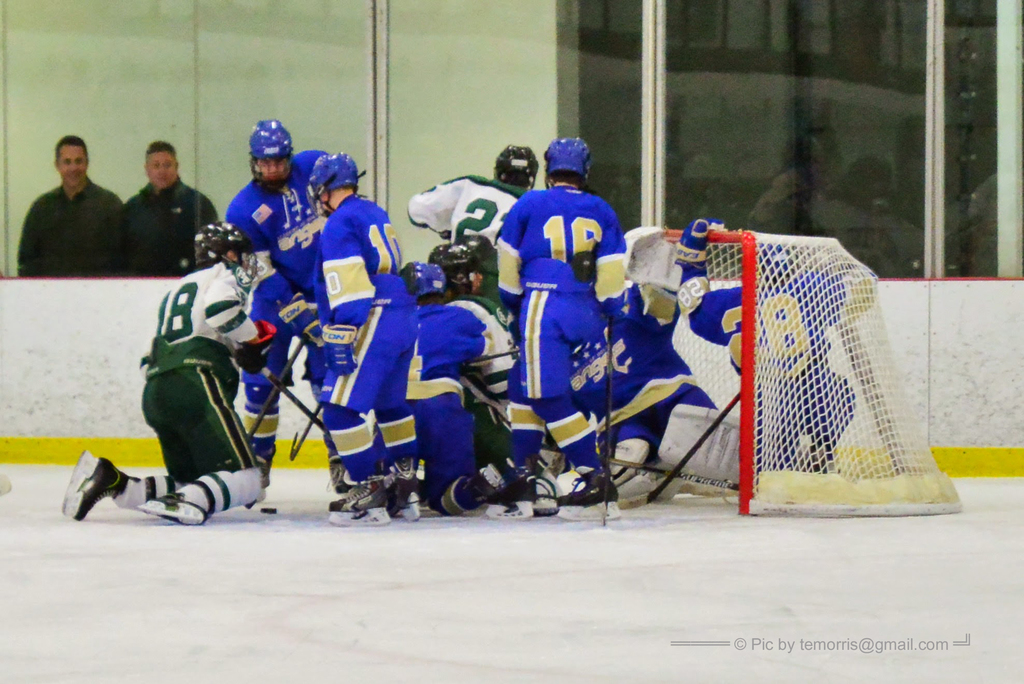Person: (15, 118, 997, 525)
